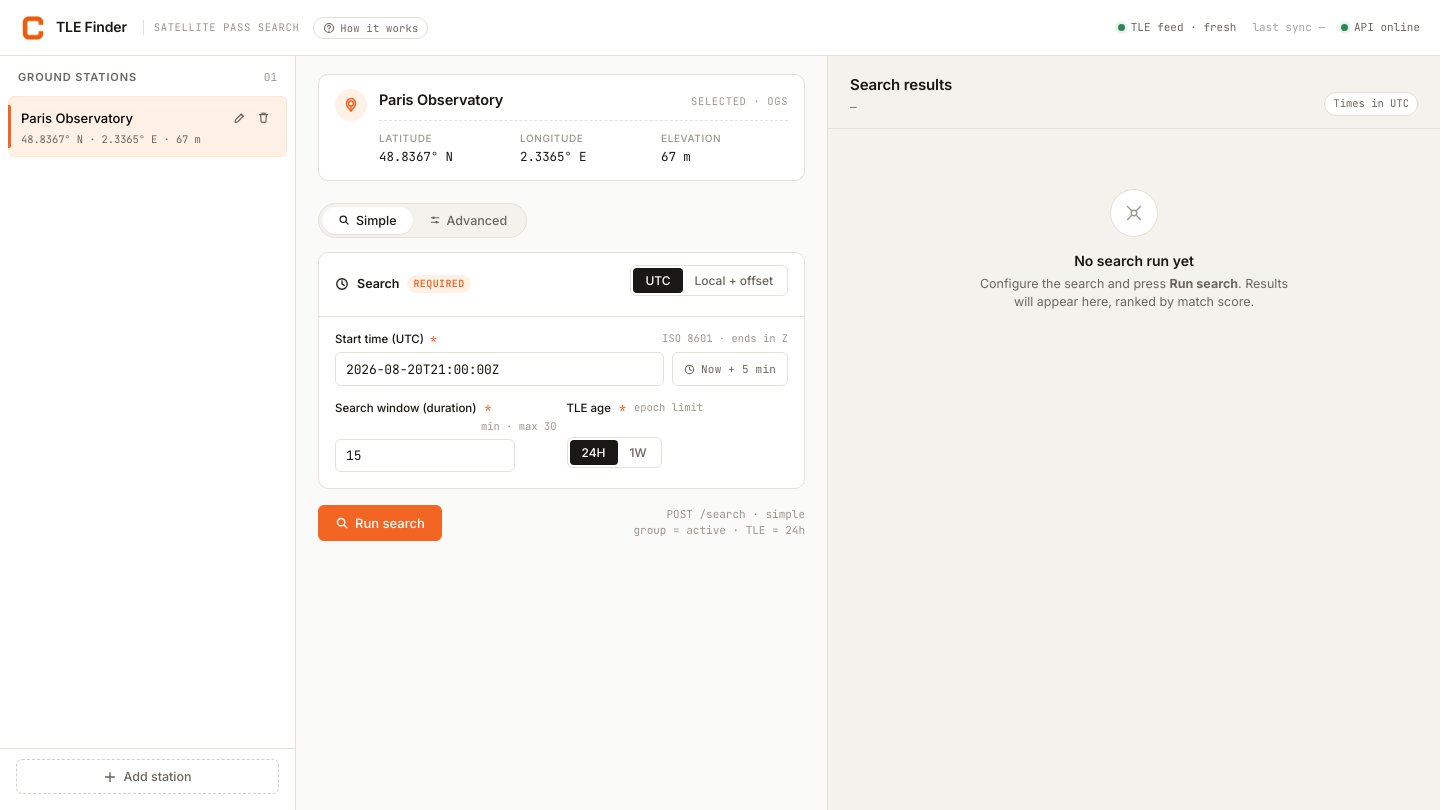
Test case: loads stations through HTTP and completes the primary simple-search workflow
This screenshot has width=1440, height=810.
Expected: the heading "Paris Observatory" is shown, [379,89,503,110]
Step 1. Click the button "Run search" → (380, 523), box [318,505,442,541]
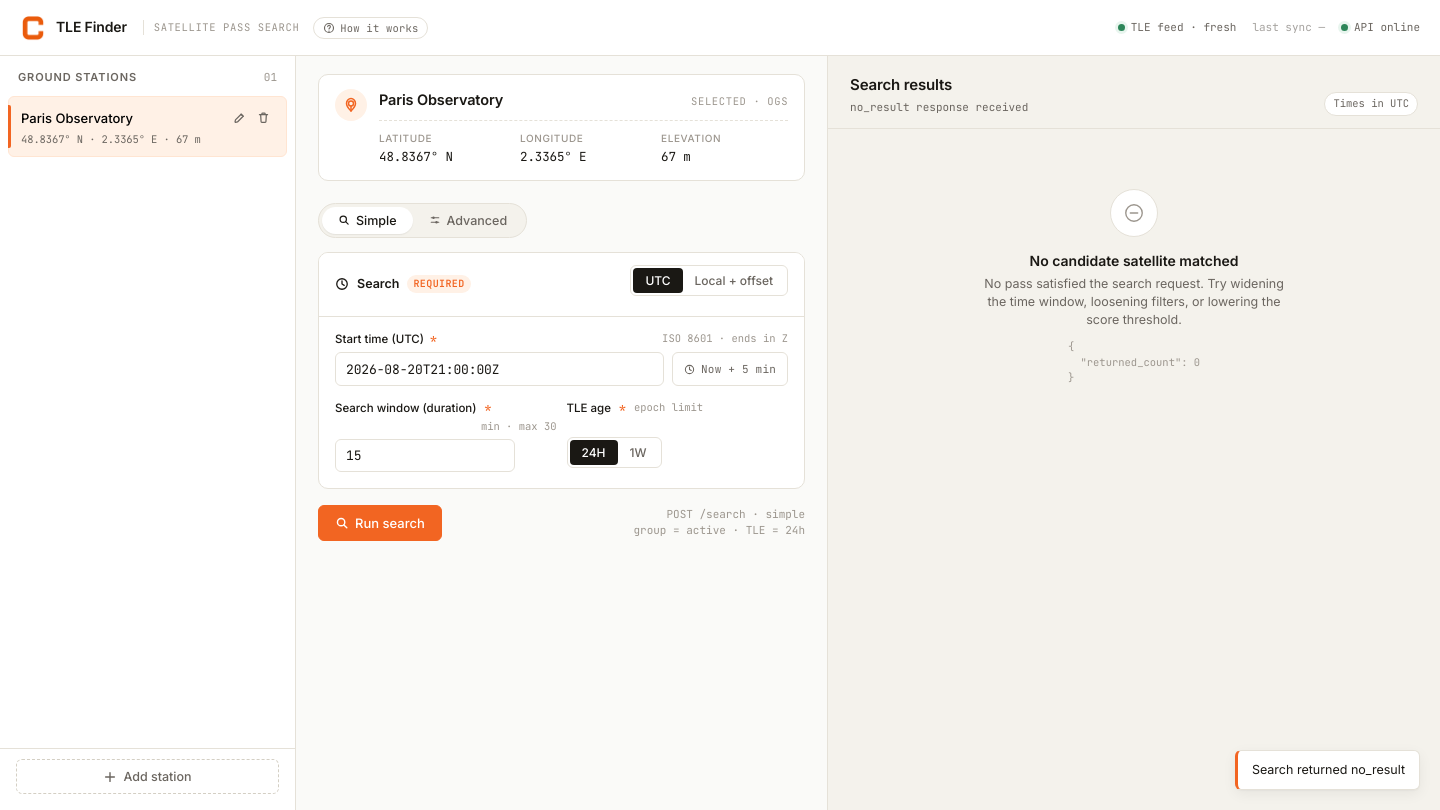
Expected: the heading "No candidate satellite matched" is shown, [1030,251,1238,271]
